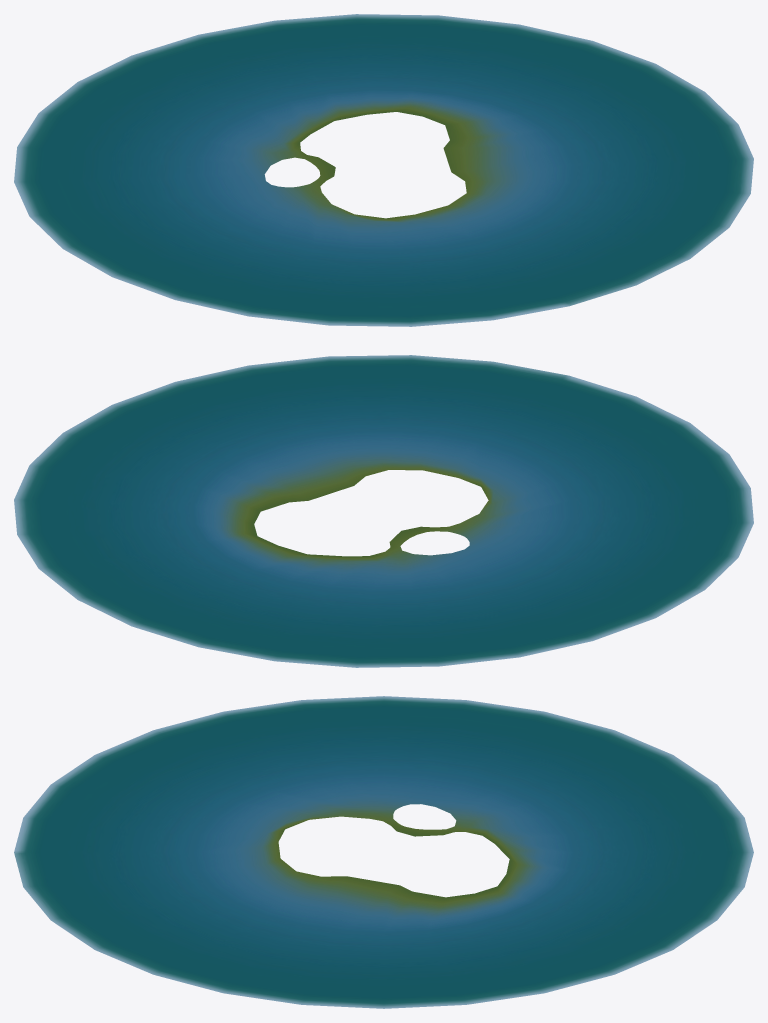
File: sea.obj
The picture shows the model from 3 angles, top to bottom: view 1: azimuth 30°, elevation 25°; view 2: azimuth 150°, elevation 25°; view 3: azimuth 270°, elevation 25°; orthographic projection.
Parts seen in each view (by area): view 1: Sea_Sea_0; view 2: Sea_Sea_0; view 3: Sea_Sea_0.
Boxes of the visible parts, x1=… form: Sea_Sea_0: x1=14, y1=14, x2=753, y2=326; Sea_Sea_0: x1=14, y1=355, x2=753, y2=667; Sea_Sea_0: x1=14, y1=696, x2=753, y2=1008.
Bounding box in the file's own units: 1712 × 0.000244 × 1712.
